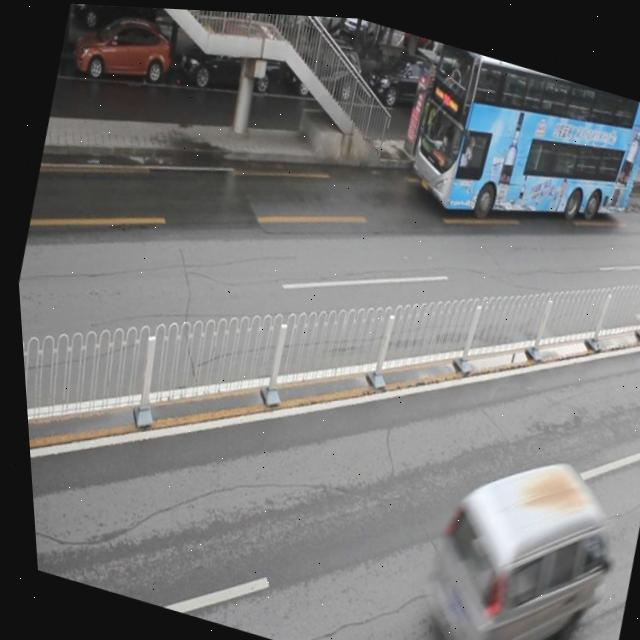car: (67, 4, 180, 101), (172, 19, 287, 107), (357, 40, 456, 124), (280, 27, 367, 109), (520, 90, 588, 164)
truck: (385, 418, 628, 640)
van: (392, 34, 640, 257)
